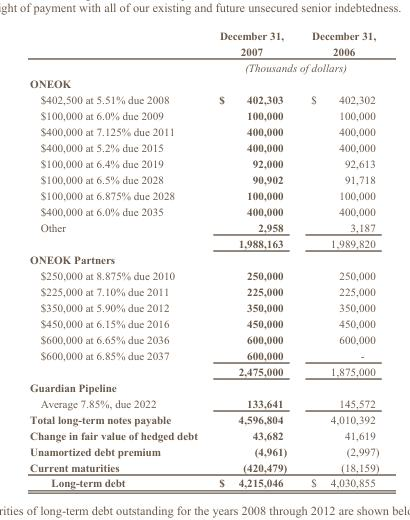table: (29, 28, 378, 488)
table column: (29, 28, 207, 488), (207, 28, 298, 488), (298, 28, 378, 488)
table column header: (29, 28, 378, 74)
table projected row header: (29, 74, 378, 90), (29, 250, 378, 266), (29, 378, 378, 394)
table row: (29, 28, 378, 58), (29, 58, 378, 74), (29, 74, 378, 90), (29, 90, 378, 106), (29, 106, 378, 122), (29, 122, 378, 138), (29, 138, 378, 154), (29, 154, 378, 170), (29, 170, 378, 186), (29, 186, 378, 202), (29, 202, 378, 218), (29, 218, 378, 234), (29, 234, 378, 250), (29, 250, 378, 266), (29, 266, 378, 282), (29, 282, 378, 298), (29, 298, 378, 314), (29, 314, 378, 330), (29, 330, 378, 346), (29, 346, 378, 362), (29, 362, 378, 378), (29, 378, 378, 394), (29, 394, 378, 410), (29, 410, 378, 426), (29, 426, 378, 442), (29, 442, 378, 458), (29, 458, 378, 474), (29, 474, 378, 488)
table spanning cell: (207, 58, 378, 74)
